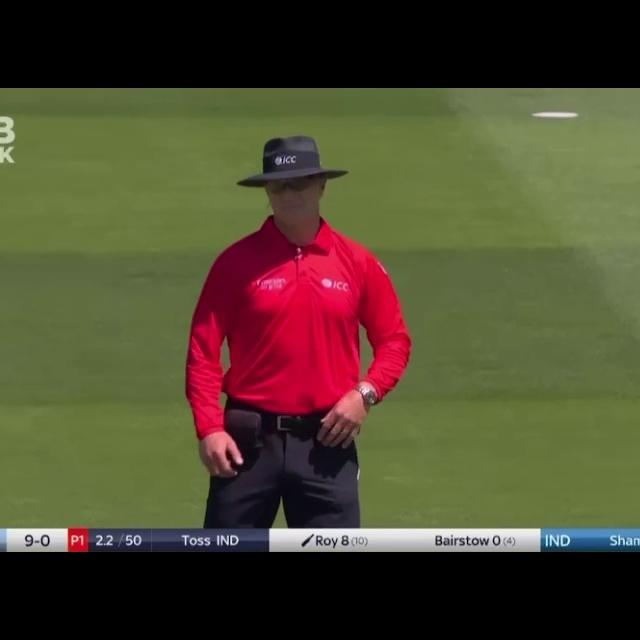umpire: (159, 117, 416, 522)
